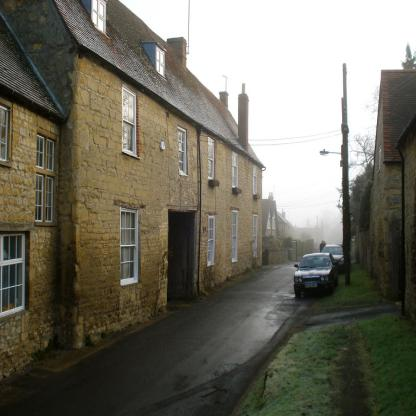Car: (294, 254, 343, 303), (322, 242, 345, 269)
